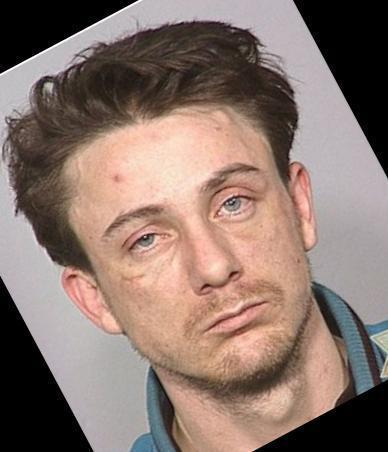Drunk: (76, 126, 306, 383)
